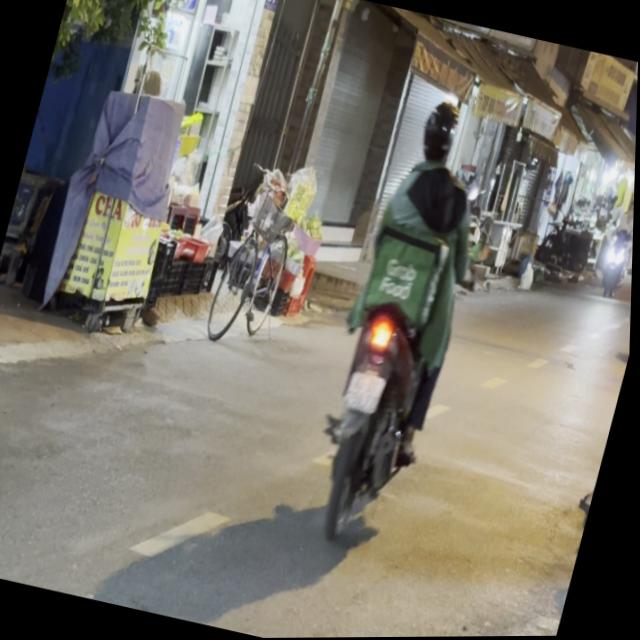helmet: (413, 92, 465, 166)
licenseplate: (290, 81, 517, 554), (566, 136, 637, 574)
nohelmet: (342, 367, 388, 414)
